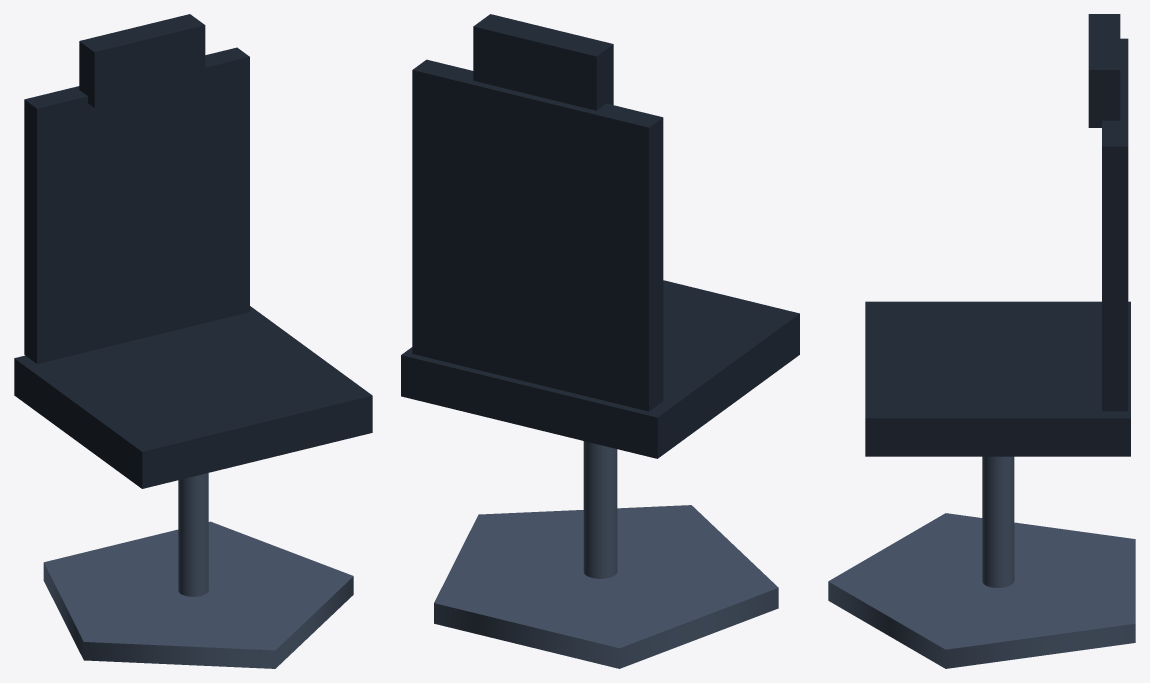
The model's file is ergonomic-chair.glb.
3 views of the same model, side by side, from view 1: azimuth 30°, elevation 25°; view 2: azimuth 150°, elevation 25°; view 3: azimuth 270°, elevation 25° (orthographic). The views are drawn at different scales.
Visible parts, largest first — view 1: ErgonomicChair; view 2: ErgonomicChair; view 3: ErgonomicChair.
Boxes of the visible parts, <box> form: ErgonomicChair: <box>14,14,372,668</box>; ErgonomicChair: <box>401,14,799,668</box>; ErgonomicChair: <box>828,14,1135,668</box>.
Bounding box in the file's own units: 0.6087 × 1.16 × 0.5789.
